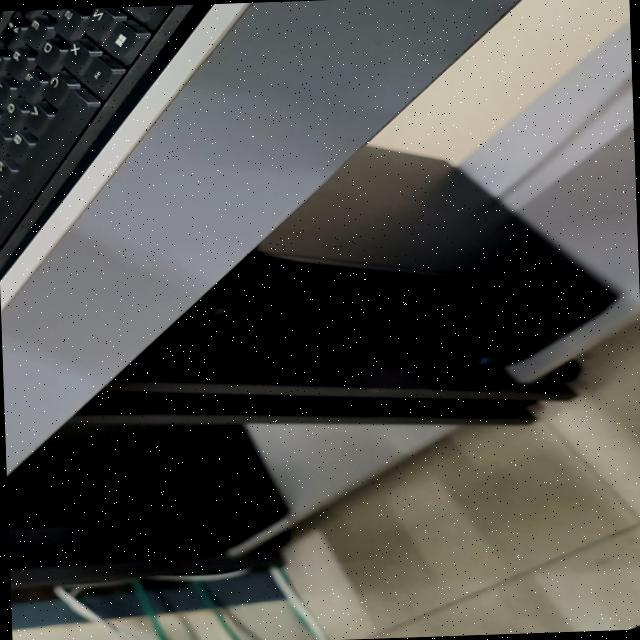Cpu: (149, 147, 613, 369), (5, 420, 288, 570)
Keyboard: (0, 4, 212, 277)
